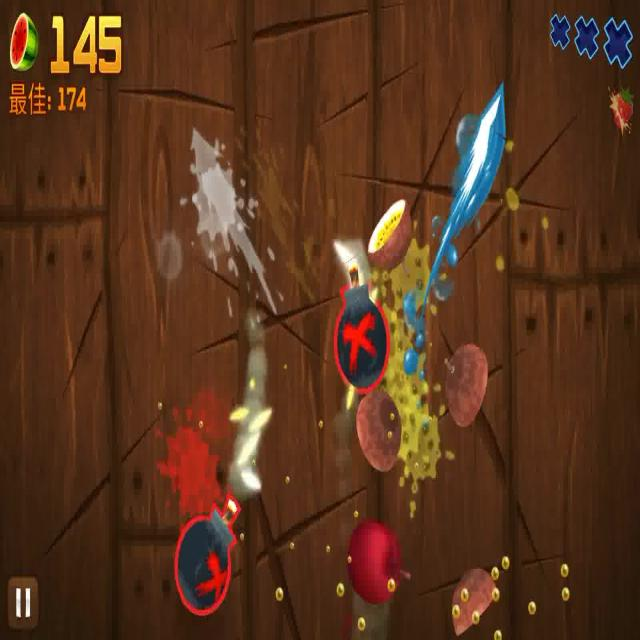bomb: (169, 398, 273, 624), (335, 248, 390, 398)
fruit: (344, 516, 412, 608), (439, 346, 490, 423), (449, 567, 502, 640), (358, 396, 408, 467), (366, 195, 416, 262)
